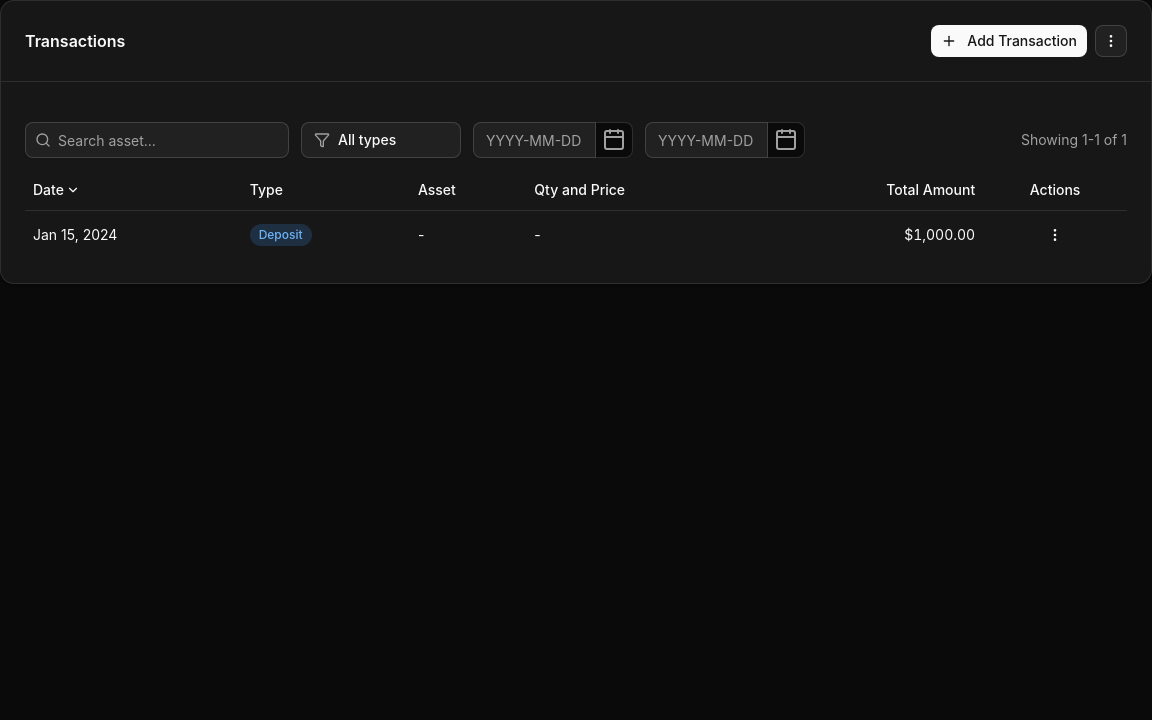
Test case: TransactionView › opens add transaction modal when Add Transaction is clicked
Click the button "Add Transaction": click(1009, 41) [931,25,1087,57]
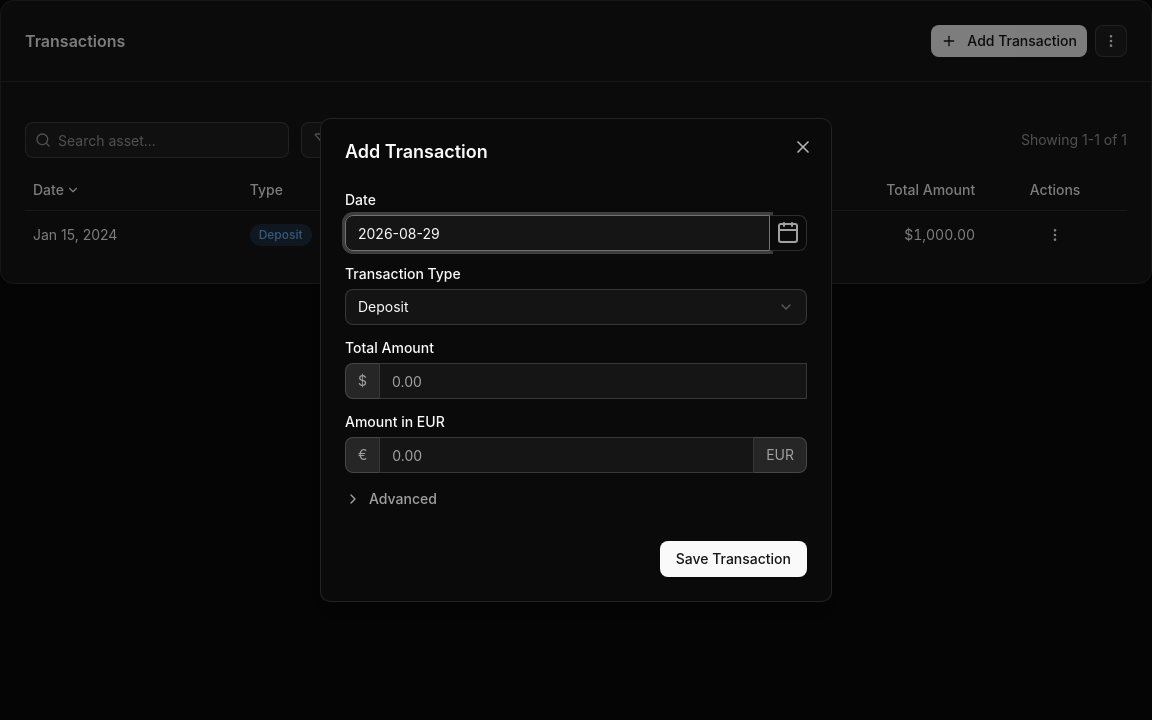
Expected: the heading "Add Transaction" is shown, [345,141,488,162]
